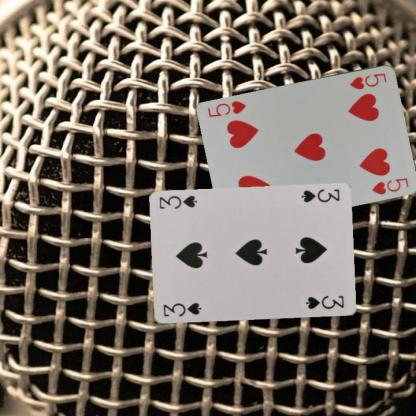3s: (161, 300, 202, 318), (299, 187, 340, 204)
5h: (348, 70, 388, 91)
